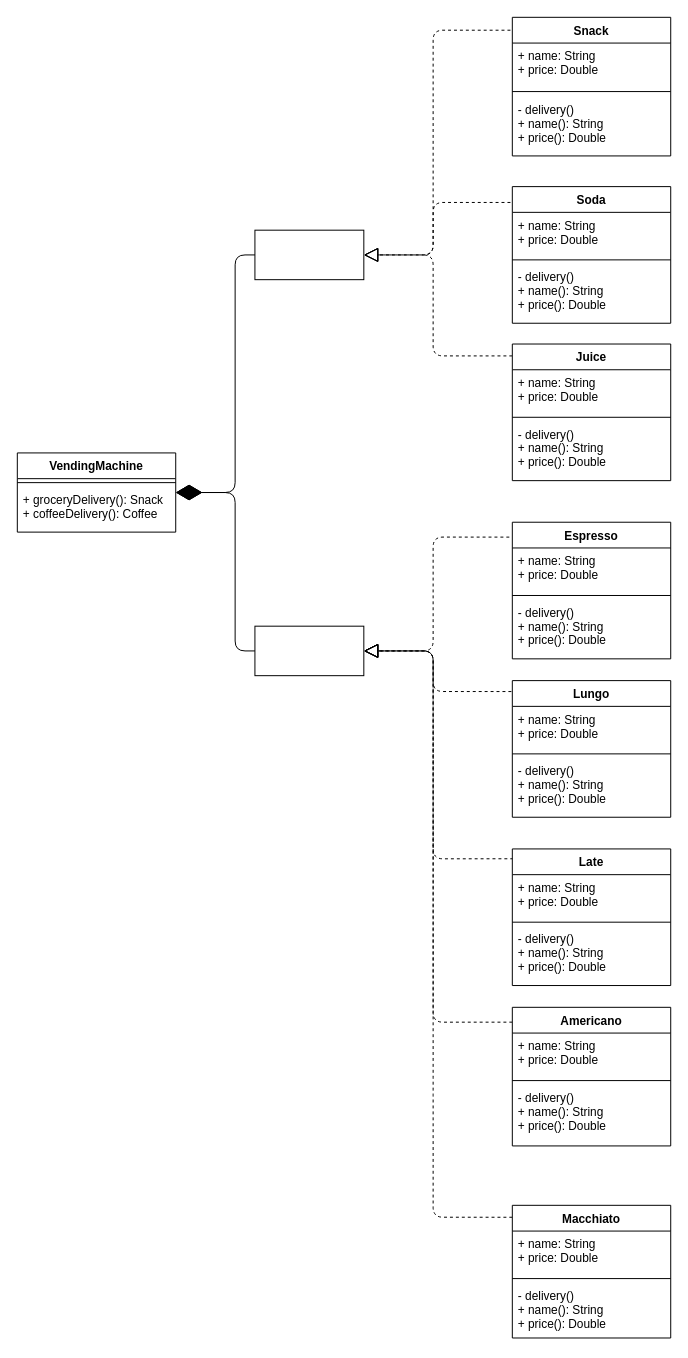
Some shapes in this 688 by 1358 pixel diagram are drawn without their labels. Here are the shapes that lost their labels. From the top down, the centre of each, then its label:
At point (309, 254): "«interface» Grocery".
At point (309, 650): "«interface» Coffee".
